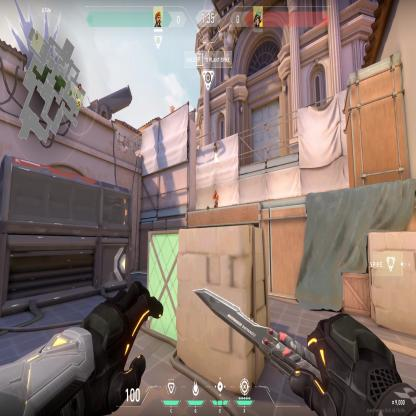enemy: (212, 188, 219, 207)
